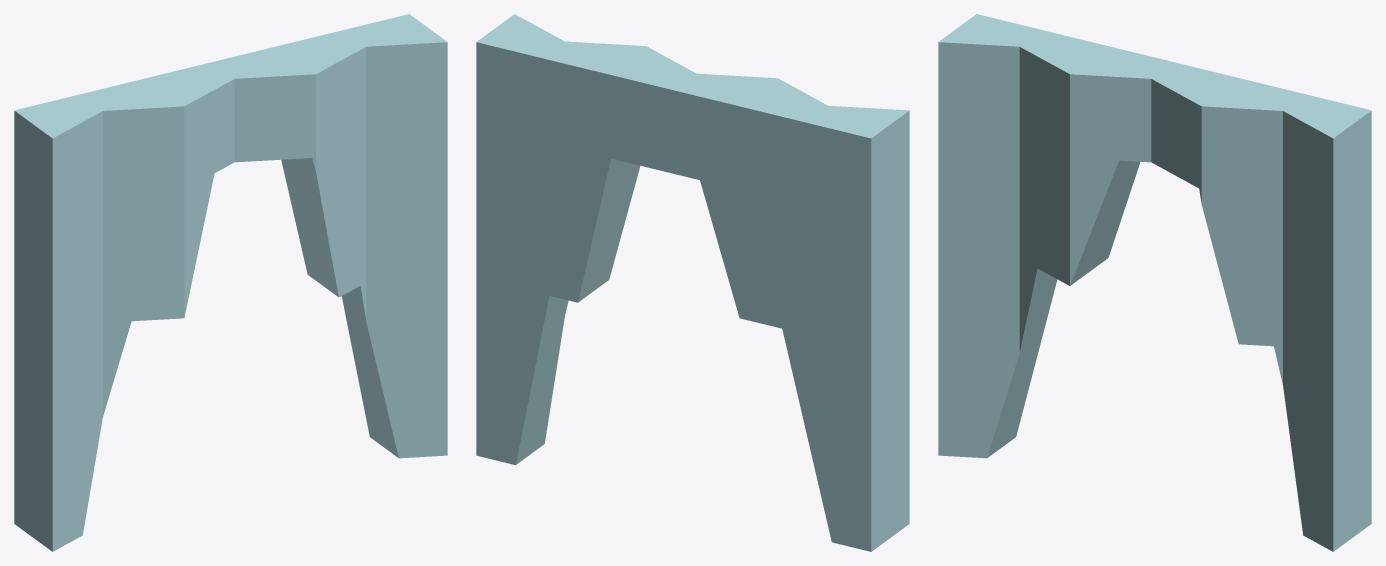
The model's file is cliff_cave_stone.dae.
The picture shows the model from 3 angles, left to right: view 1: azimuth 30°, elevation 25°; view 2: azimuth 150°, elevation 25°; view 3: azimuth 330°, elevation 25°; orthographic projection.
Parts seen in each view (by area): view 1: cliff_cave_stone; view 2: cliff_cave_stone; view 3: cliff_cave_stone.
Boxes of the visible parts, bbox=[...] form: cliff_cave_stone: bbox=[14, 14, 447, 551]; cliff_cave_stone: bbox=[476, 14, 909, 551]; cliff_cave_stone: bbox=[938, 14, 1371, 551].
Size of the model in its own units: 1 by 1 by 0.1685.
